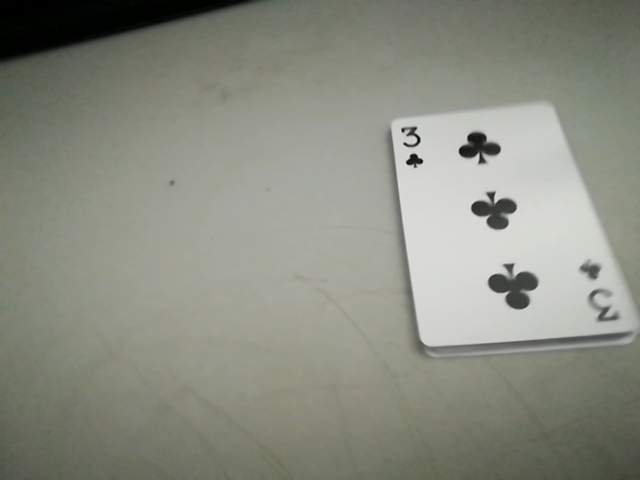mh 3: (576, 250, 618, 327), (388, 122, 428, 175)
